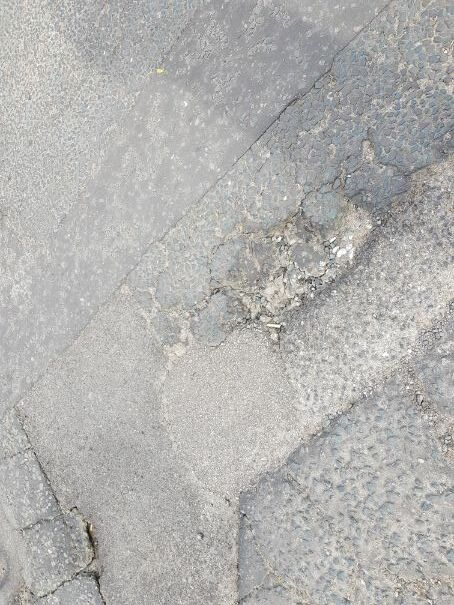pothole: (196, 172, 394, 349)
